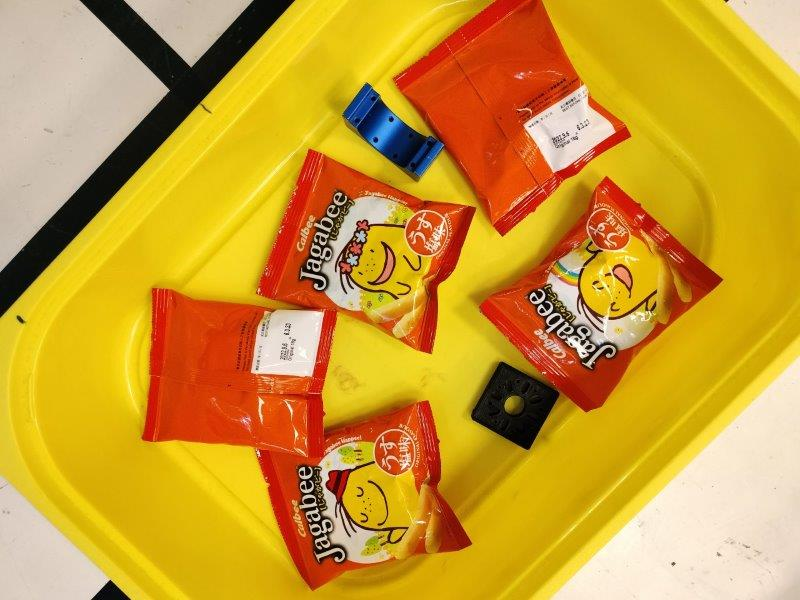Jagabee: (479, 178, 724, 411), (394, 1, 633, 237), (257, 149, 476, 354), (256, 402, 472, 592), (140, 287, 338, 459)
